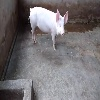heo: (26, 2, 70, 51)
